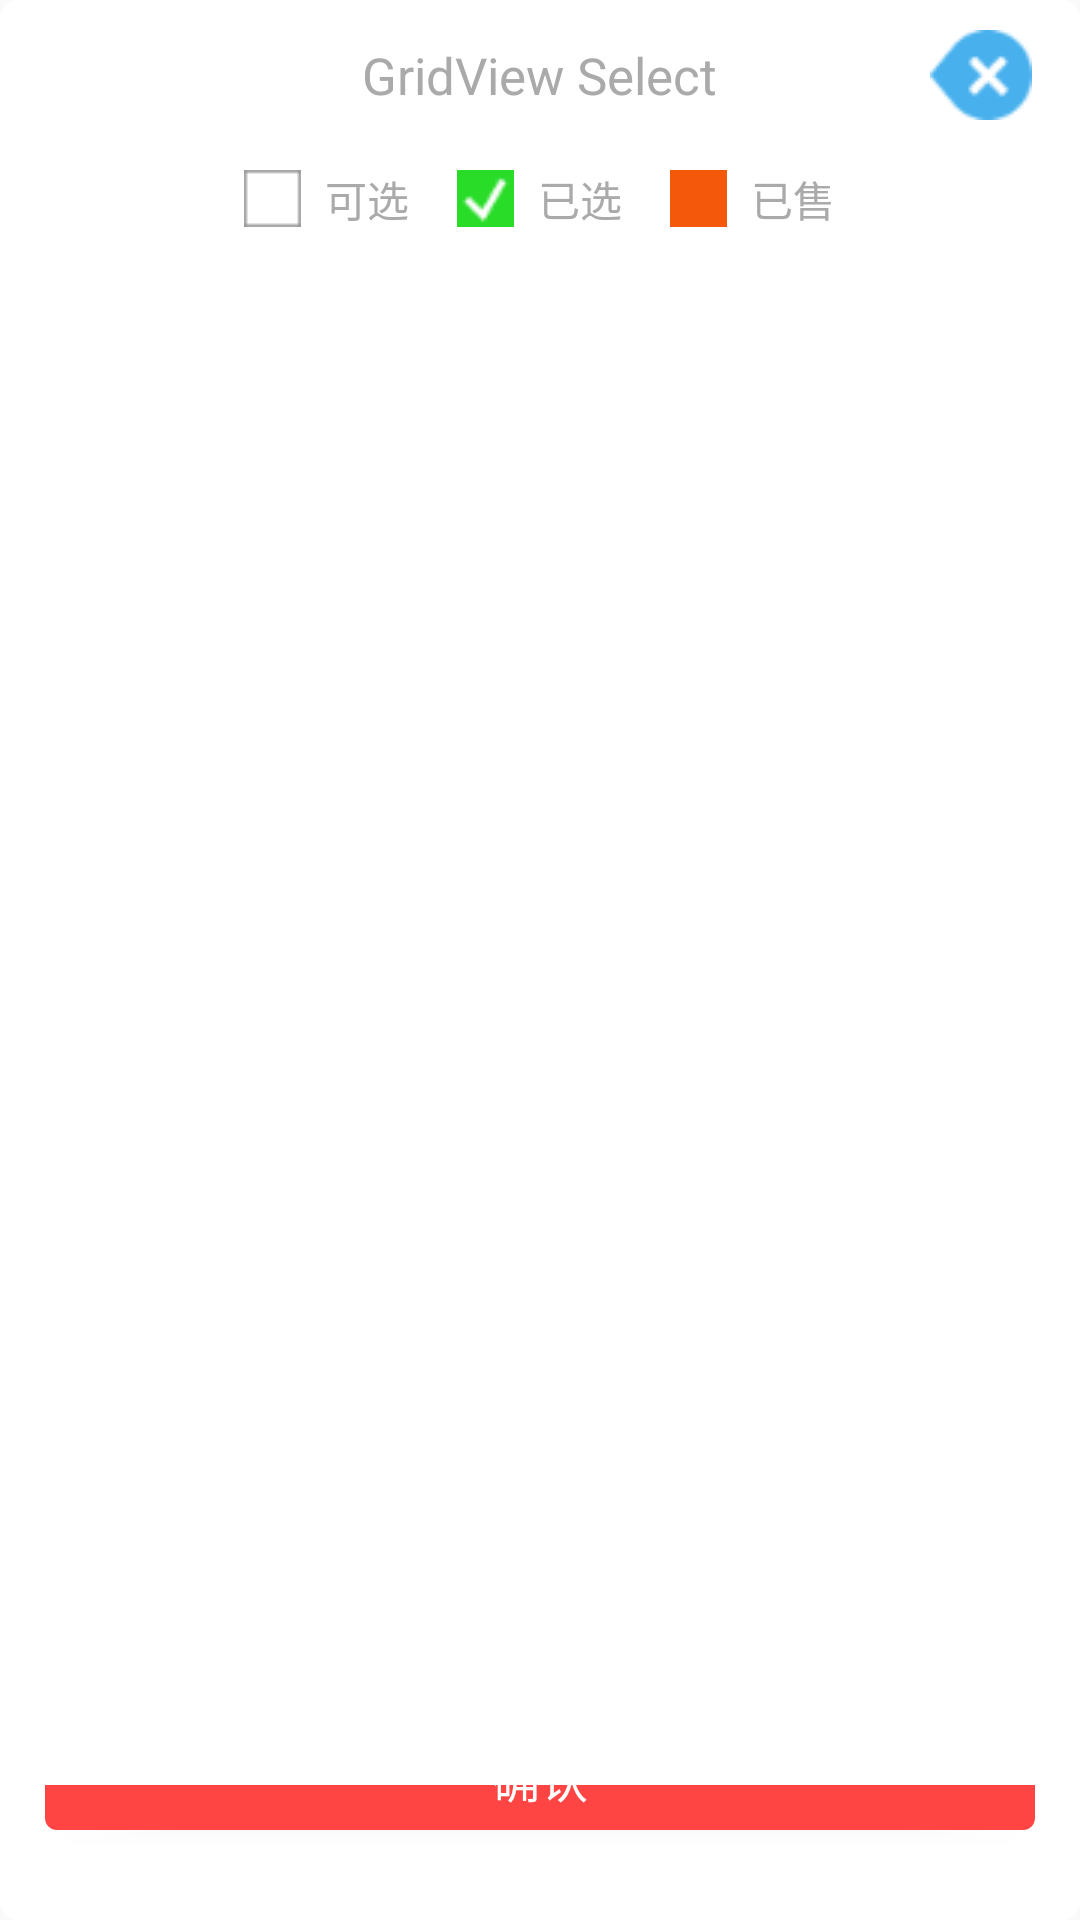

Where icons sit on this 1080 x 1920 app screen, as (x1, y1, x2, y2):
close: (930, 30, 1032, 120)
